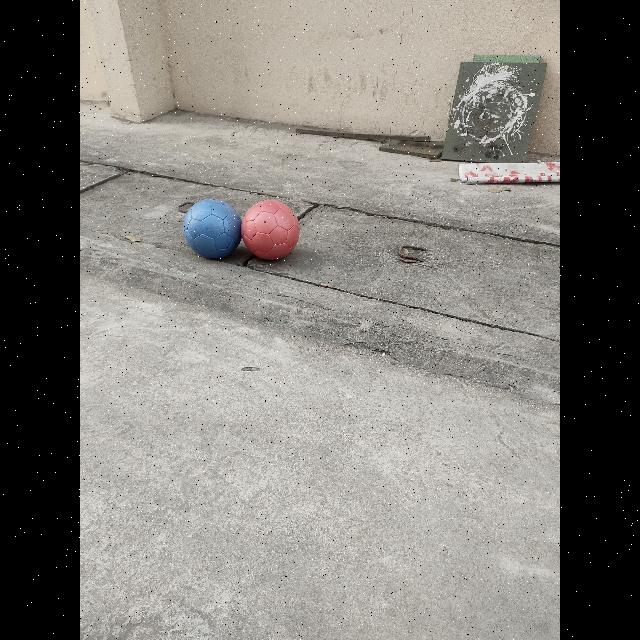B: (182, 199, 242, 259)
R: (241, 200, 299, 260)
